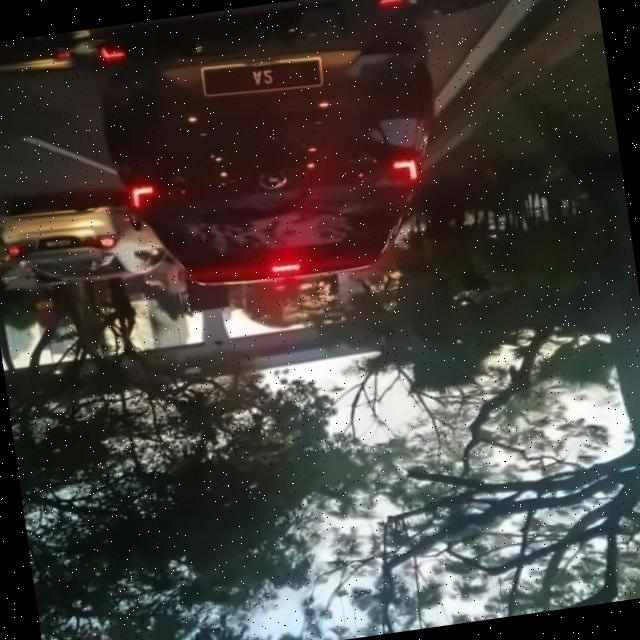License_Plate: (198, 51, 327, 108), (36, 230, 88, 256)
car: (87, 1, 460, 318)
